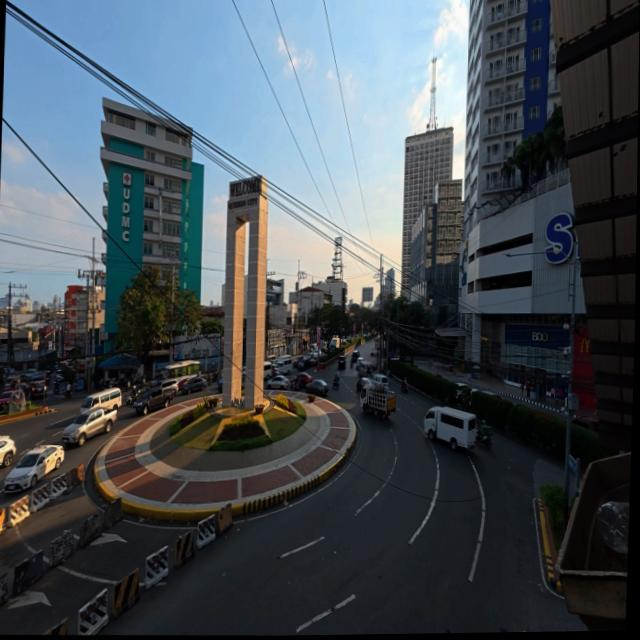car: (59, 407, 114, 448), (131, 385, 174, 415)
